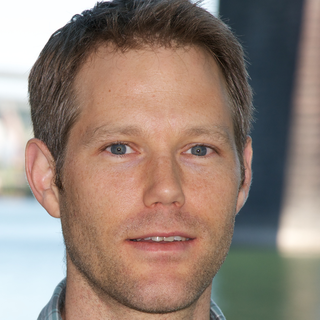eye: (96, 138, 143, 163), (176, 139, 222, 164)
